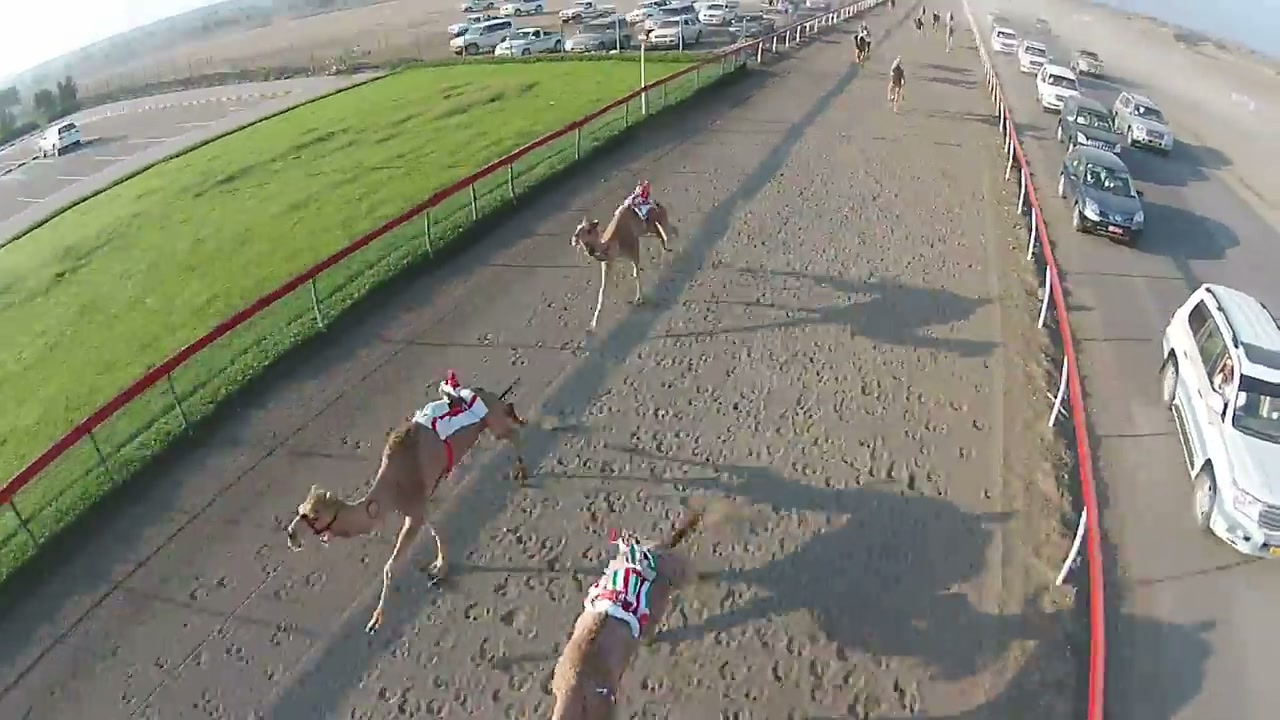animal_foot_print: (362, 213, 806, 713), (659, 520, 942, 719)
